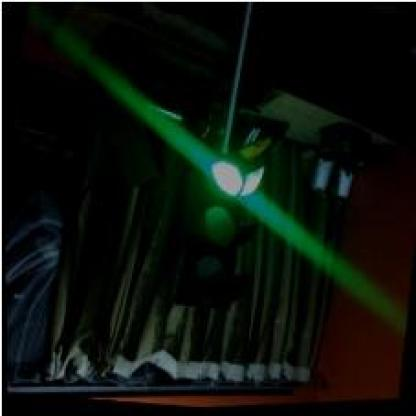green: (172, 148, 264, 314)
